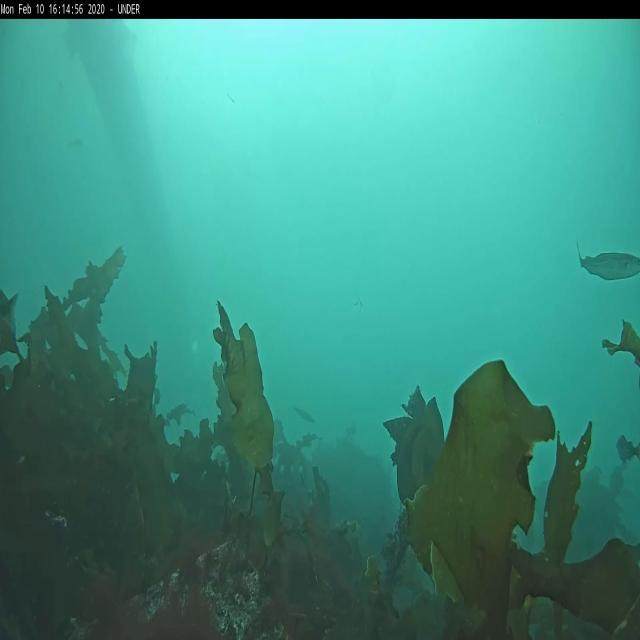fish: (580, 254, 640, 280), (616, 432, 639, 462), (292, 406, 316, 424)
